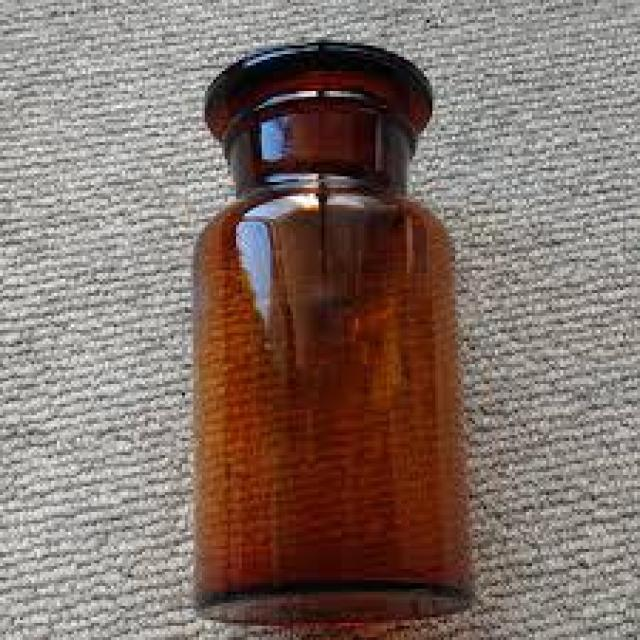Glass: (195, 43, 469, 623)
